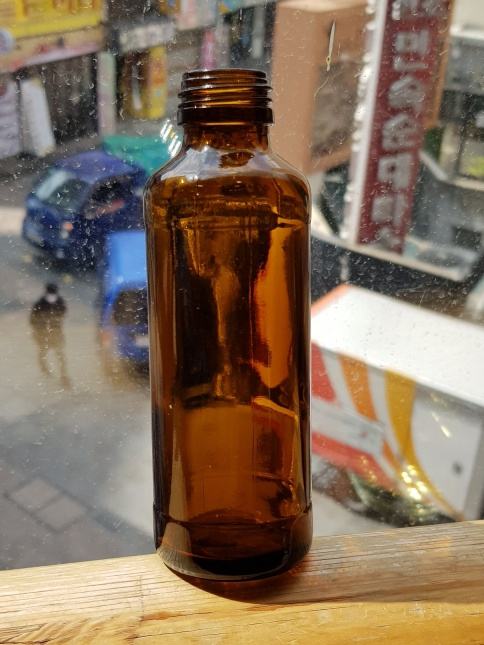Glass: (141, 65, 318, 584)
